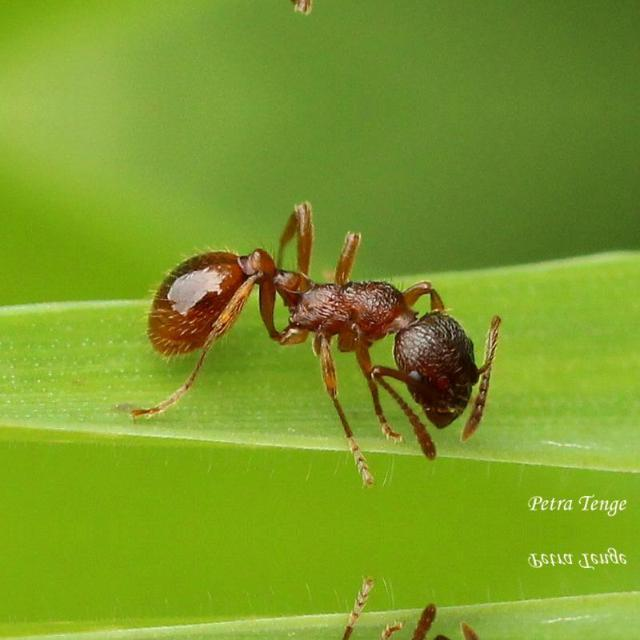Myrmica: (126, 154, 508, 486)
